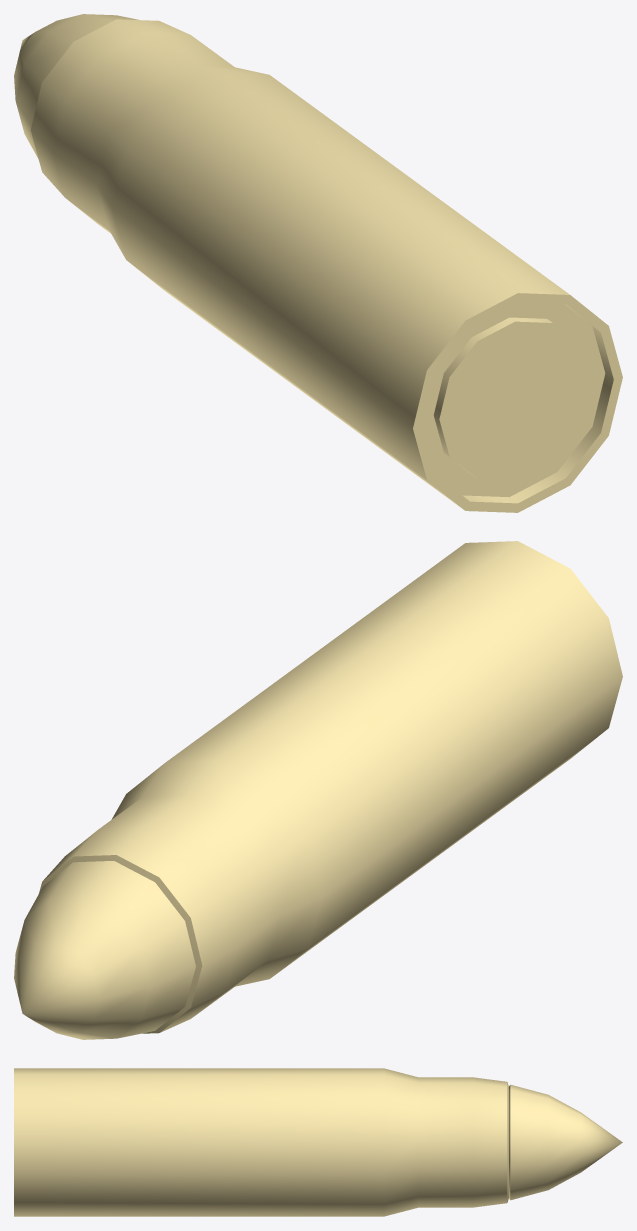
The model's file is bullet.fbx.
3 views of the same model, one above another, from view 1: azimuth 30°, elevation 25°; view 2: azimuth 150°, elevation 25°; view 3: azimuth 270°, elevation 25° (orthographic). The views are drawn at different scales.
Parts seen in each view (by area): view 1: bullet; view 2: bullet; view 3: bullet.
Part boxes in pixels (left/top/right/bottom): bullet: left=14, top=14, right=622, bottom=512; bullet: left=14, top=541, right=622, bottom=1039; bullet: left=14, top=1068, right=622, bottom=1216.
Bounding box in the file's own units: 1.06 × 1.06 × 4.32.
